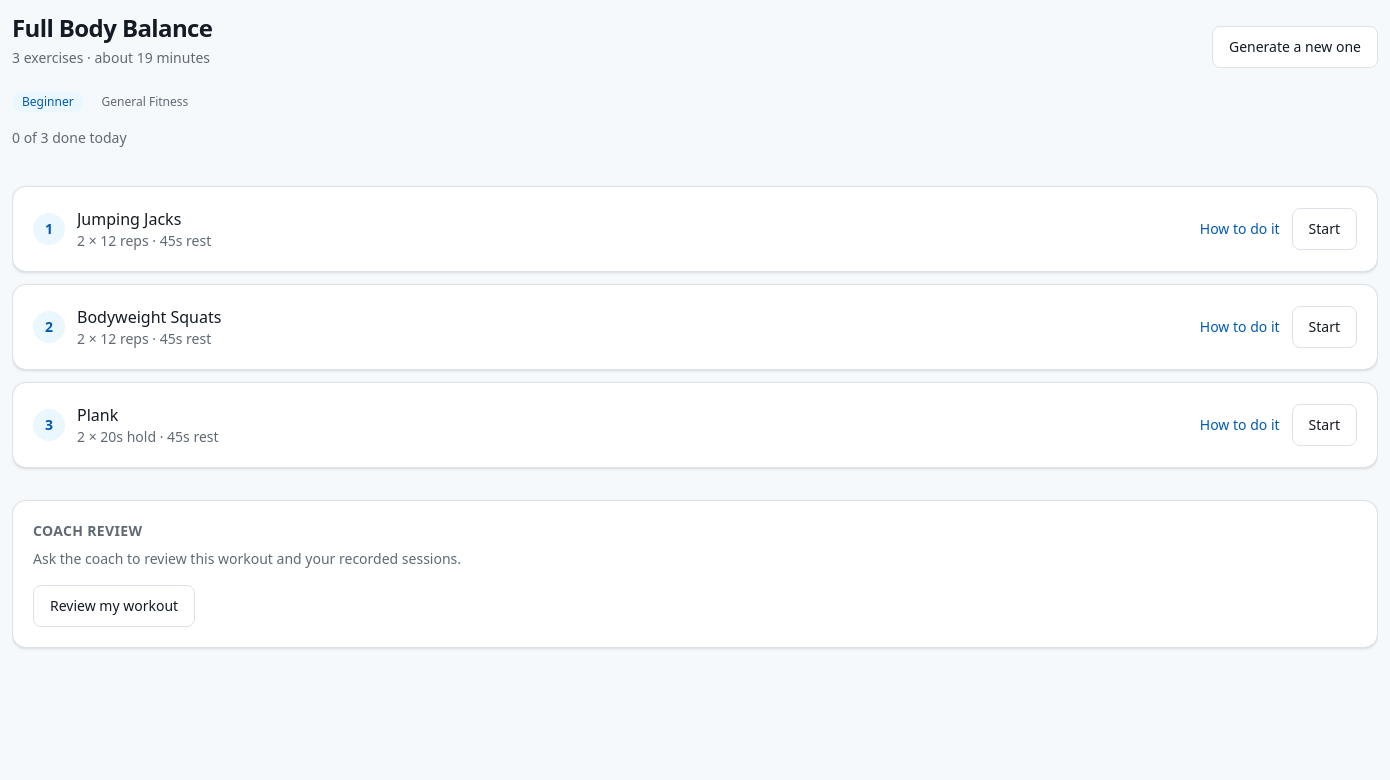
Test: the workout page › explains that an unchanged profile yields the same plan
Expected: the text "Jumping Jacks" is shown, [77,207,181,231]
Step 1. Click the button "Generate a new one" → coordinates (1295, 47), box [1212,26,1378,68]
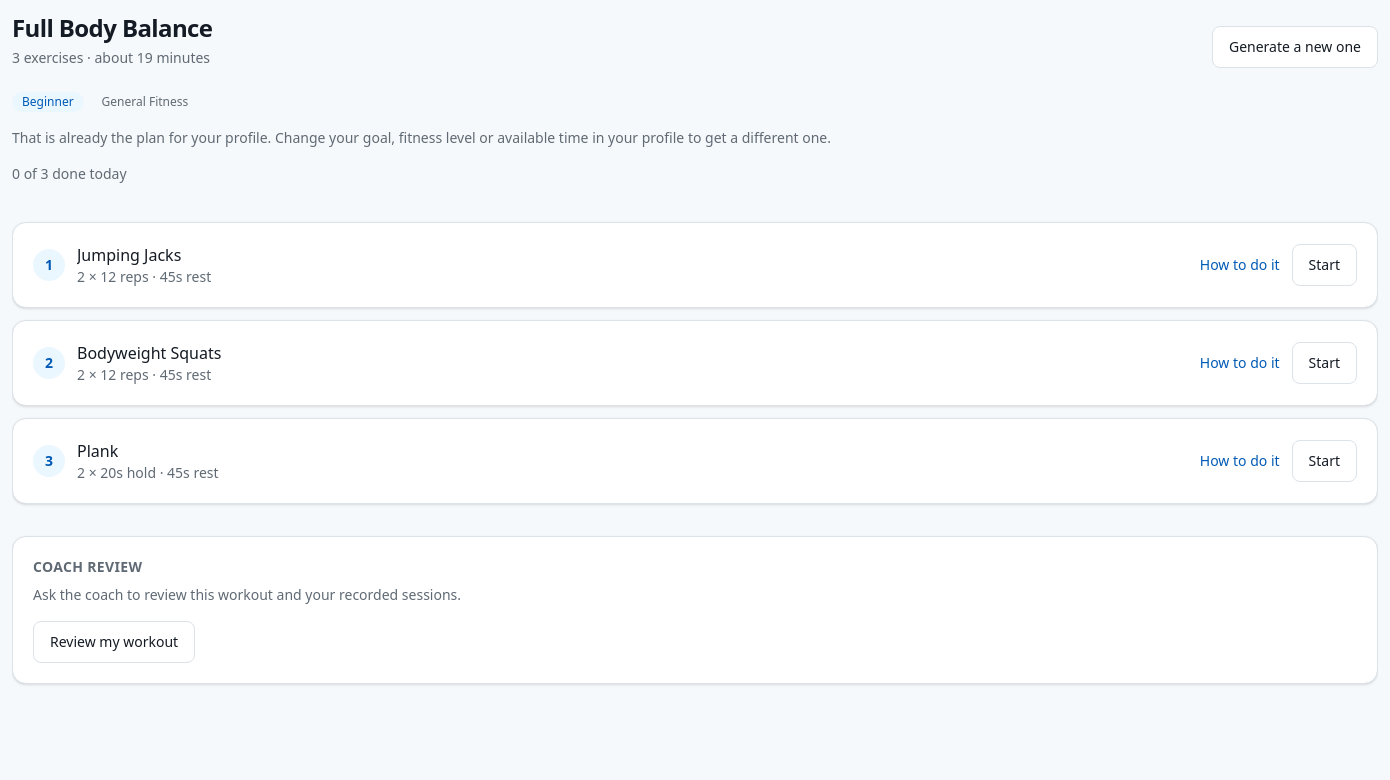
Expected: the text "already the plan for your profile" is shown, [12,128,831,147]
